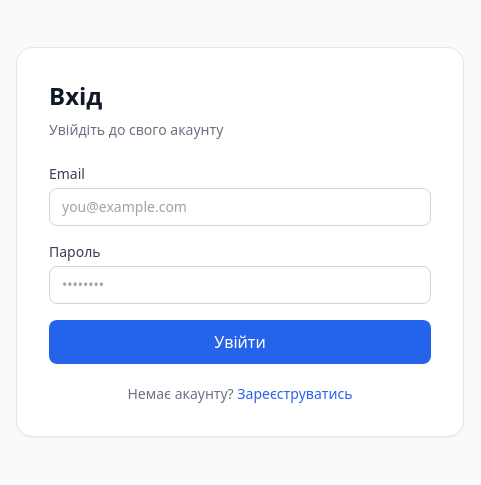
it: LoginPage › shows fallback error when no server message
The image size is (481, 485).
Type "user@test.com" into the field with placeholder "you@example.com" at (240, 207), box [49,188,431,226]
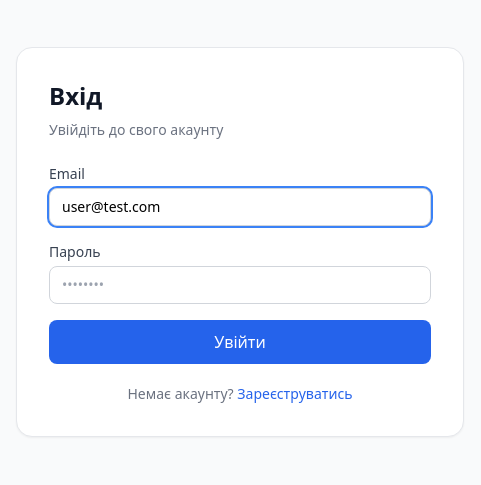
Type "somepassword" into the password field with placeholder "••••••••" at (240, 285), box [49,266,431,304]
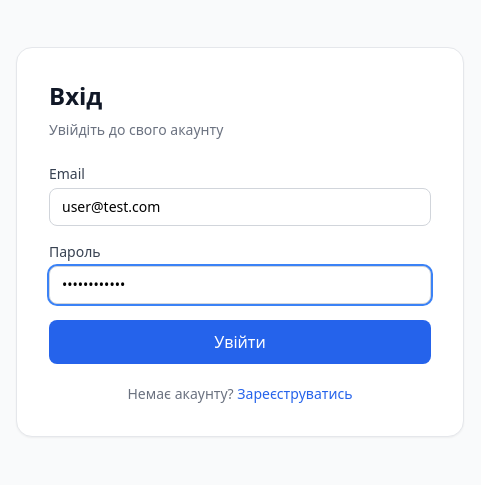
Click the button "Увійти" at (240, 342), box [49,320,431,364]
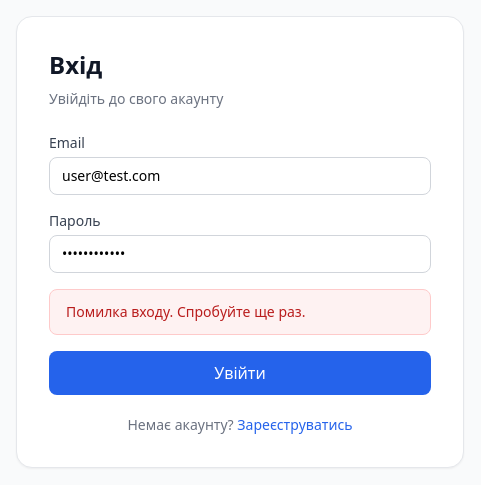
Now the text "Помилка входу. Спробуйте ще раз." is shown, box [49,289,431,335]
